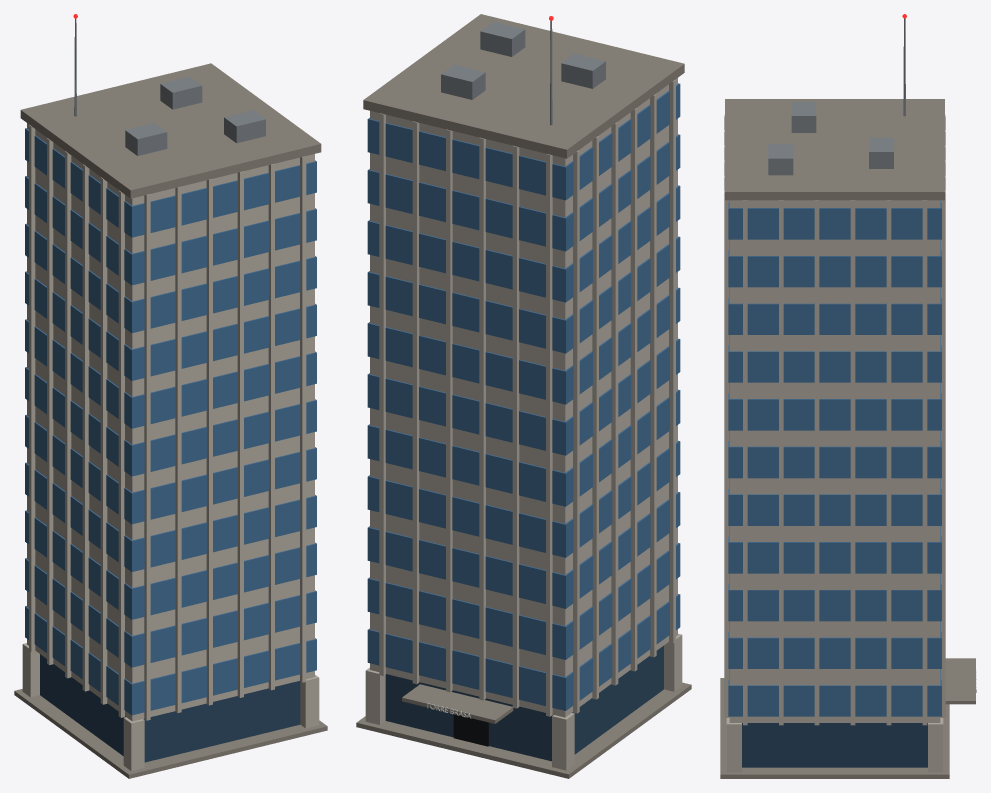
Rendered from predio_centro.glb.
3 views of the same model, side by side, from view 1: azimuth 30°, elevation 25°; view 2: azimuth 150°, elevation 25°; view 3: azimuth 270°, elevation 25° (orthographic). The views are drawn at different scales.
Visible parts, largest first — view 1: predio_centro_corpo; view 2: predio_centro_corpo; view 3: predio_centro_corpo.
Boxes of the visible parts, x1=… form: predio_centro_corpo: x1=14, y1=18, x2=327, y2=778; predio_centro_corpo: x1=356, y1=14, x2=691, y2=778; predio_centro_corpo: x1=720, y1=18, x2=975, y2=778.
Bounding box in the file's own units: 14.8 × 48.95 × 16.54.
